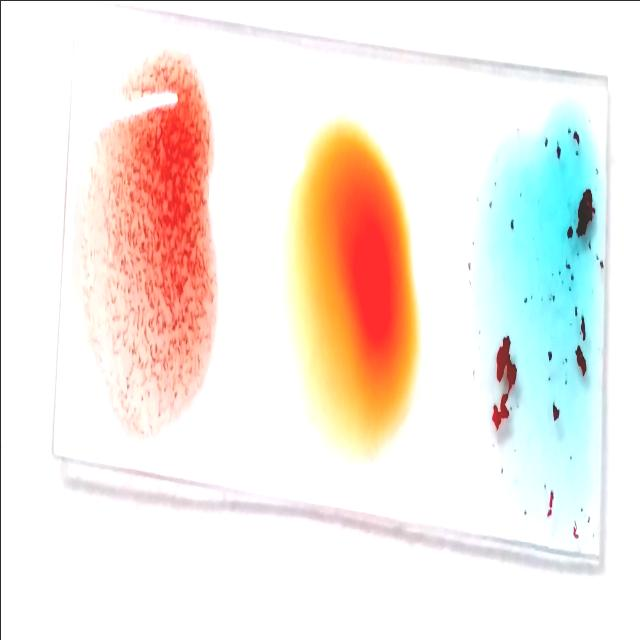A: (478, 109, 602, 528)
D: (88, 66, 216, 434)
